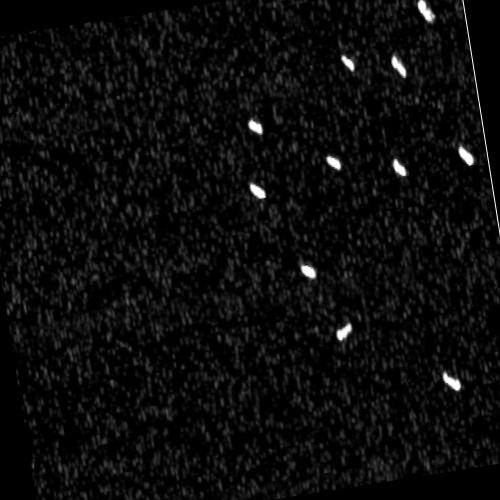ship: (441, 369, 462, 394), (416, 0, 436, 25), (456, 144, 476, 167), (390, 53, 408, 78), (249, 180, 268, 200), (299, 261, 318, 281), (325, 154, 343, 174), (336, 321, 353, 341), (340, 53, 356, 74), (393, 157, 408, 178), (248, 118, 265, 133)
